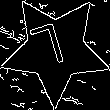L_S: (34, 21, 76, 78)
